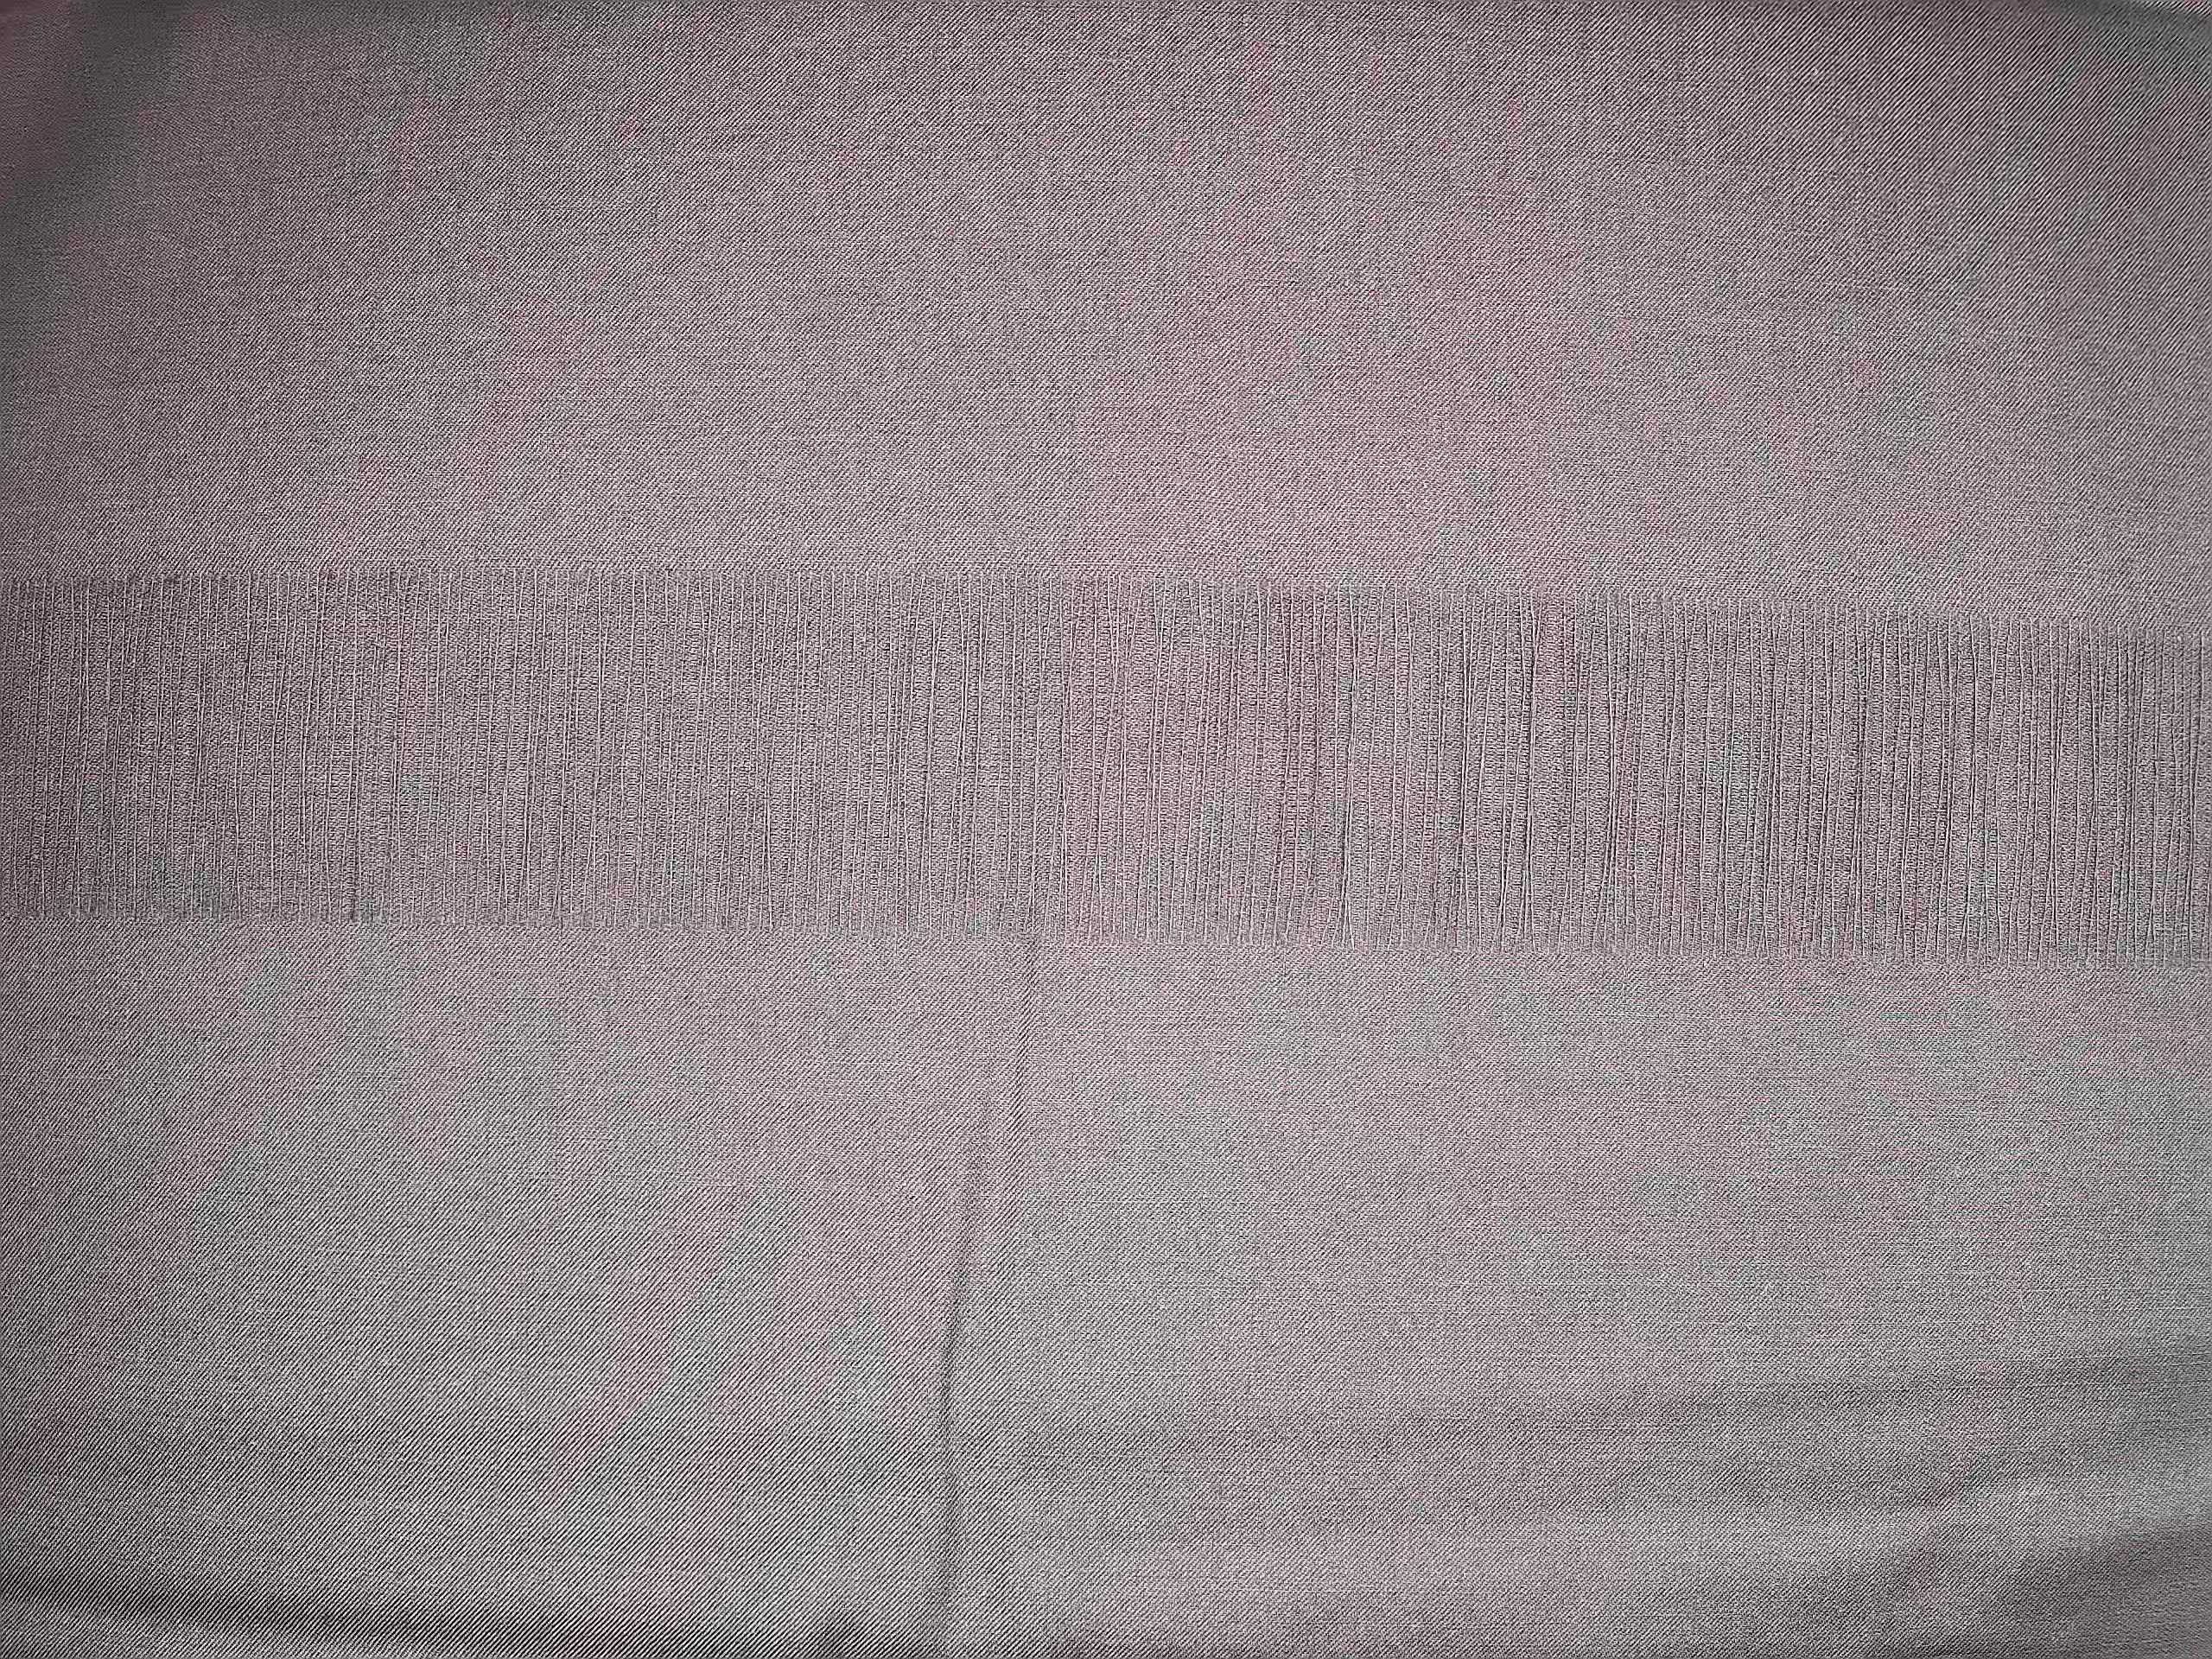others: (26, 535, 2189, 978)
